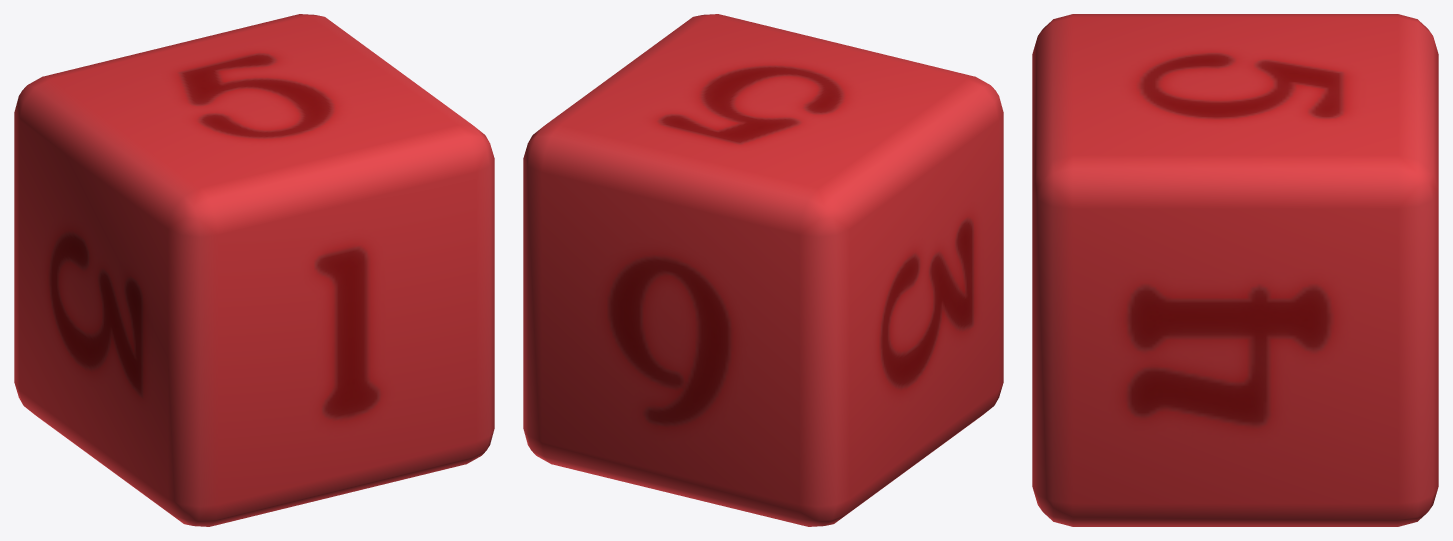
File: k_DiceRed.glb
3 views of the same model, side by side, from view 1: azimuth 30°, elevation 25°; view 2: azimuth 150°, elevation 25°; view 3: azimuth 270°, elevation 25° (orthographic). The views are drawn at different scales.
Parts seen in each view (by area): view 1: D6_C_red; view 2: D6_C_red; view 3: D6_C_red.
Boxes of the visible parts, <box> form: D6_C_red: <box>14,14,494,526</box>; D6_C_red: <box>523,14,1003,526</box>; D6_C_red: <box>1032,14,1438,526</box>.
Size of the model in its own units: 0.75 by 0.75 by 0.75.
Materials: 1 (1 with a texture image).
